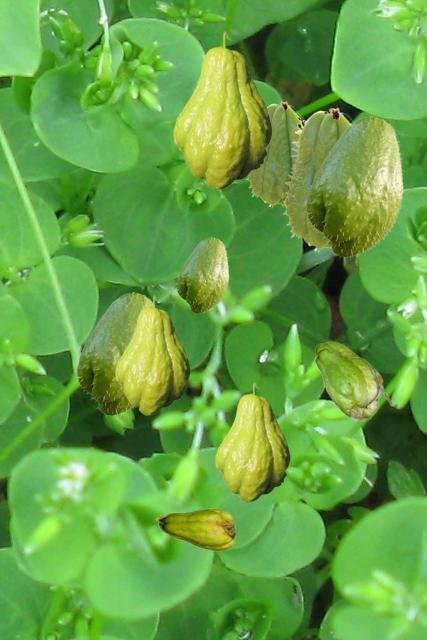sayote: (173, 31, 271, 189), (303, 116, 403, 258), (282, 107, 353, 252), (74, 292, 156, 416), (115, 295, 189, 414), (215, 382, 289, 501), (311, 341, 390, 420), (245, 101, 303, 207), (175, 237, 228, 313), (155, 508, 234, 550)
